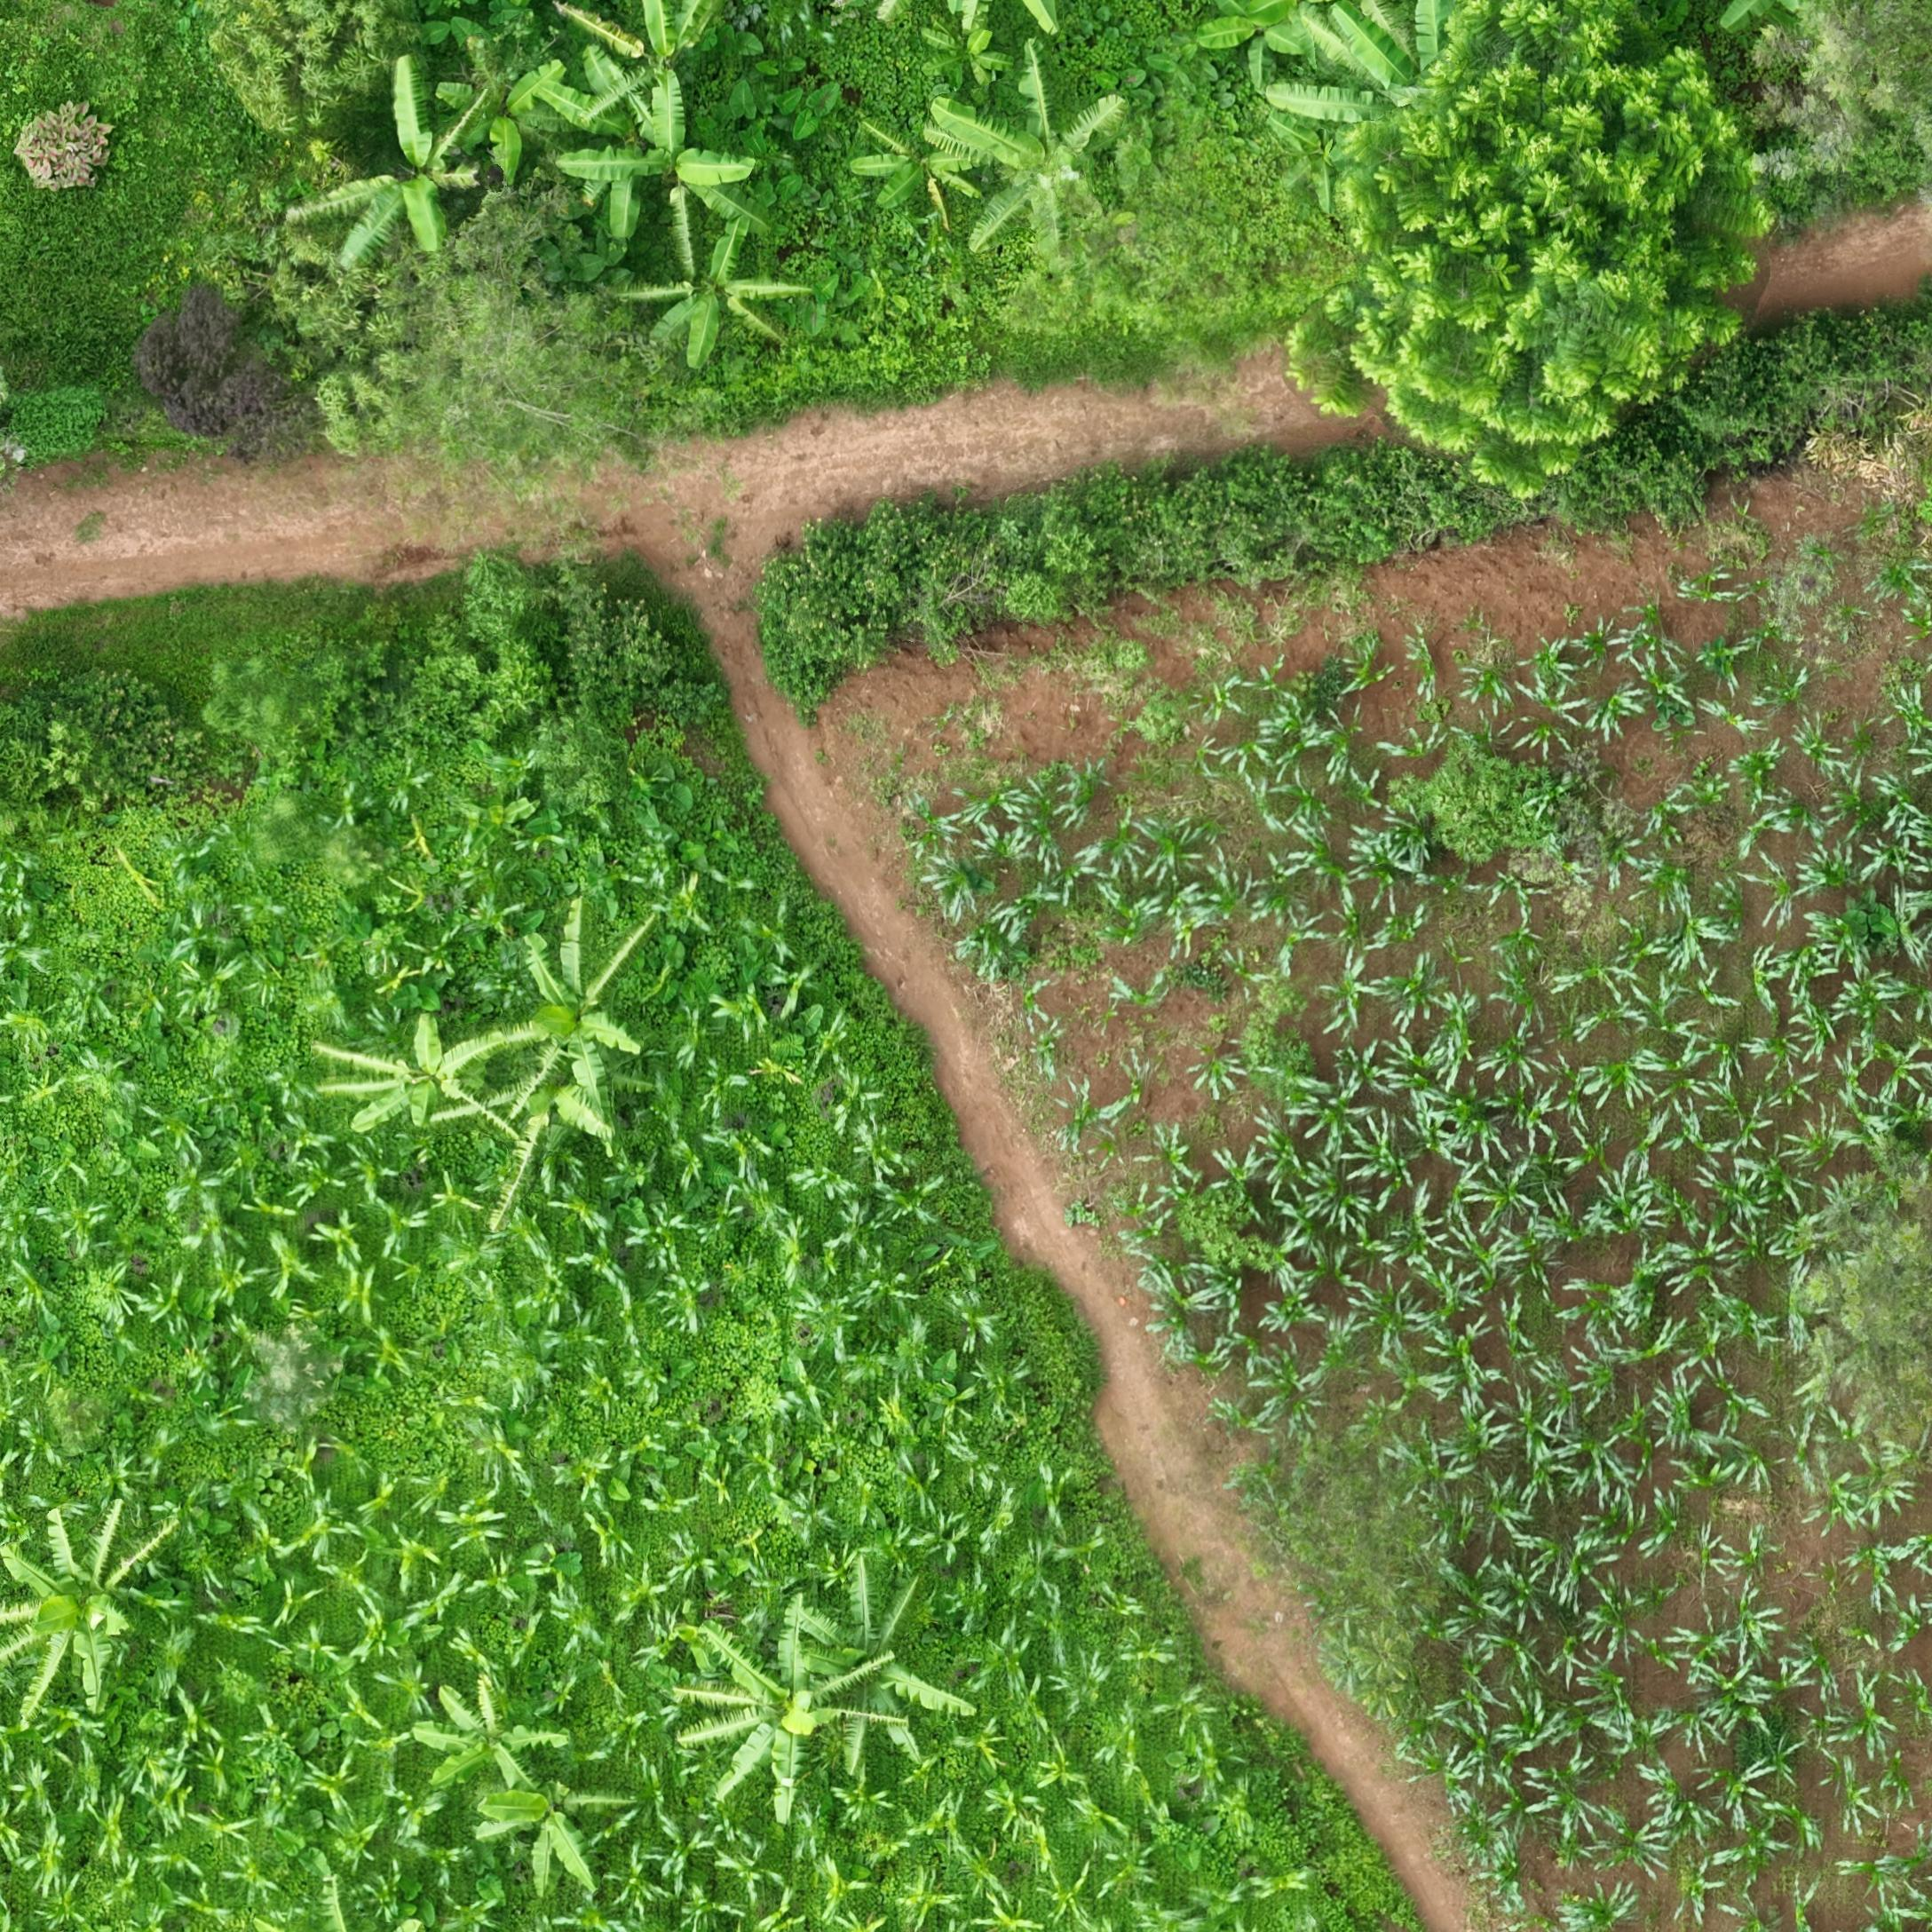Banana: (690, 1677, 918, 1895), (4, 1553, 189, 1794), (826, 1619, 1019, 1849), (333, 74, 529, 292), (488, 954, 725, 1131), (994, 67, 1198, 264), (308, 1024, 524, 1194), (671, 239, 869, 414), (619, 99, 791, 283), (510, 1104, 702, 1254), (412, 1734, 603, 1863), (571, 0, 764, 127), (1338, 2, 1525, 131), (902, 108, 1031, 246), (494, 1854, 685, 1932), (1307, 115, 1431, 234), (941, 11, 1063, 103), (1238, 9, 1362, 81)
